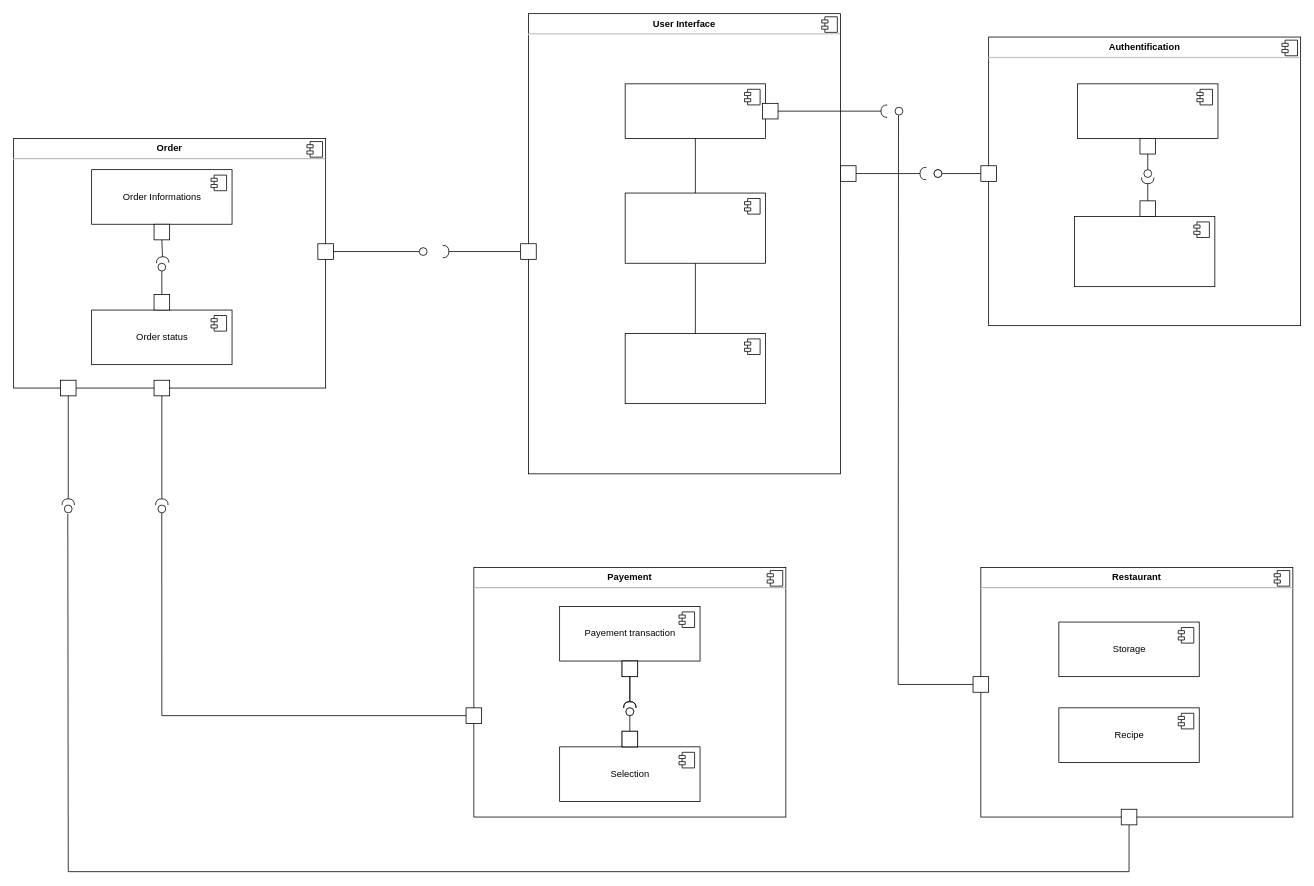
The diagram is 1314 pixels wide and 886 high, and some of its shapes have lost their labels. The centre of each missing label's shape, as x and y in pixels:
"Account" goes at [1144,251].
"Customer" goes at [695,368].
"Deliver man" goes at [695,227].
"Login" goes at [1147,110].
"Staff" goes at [695,110].
